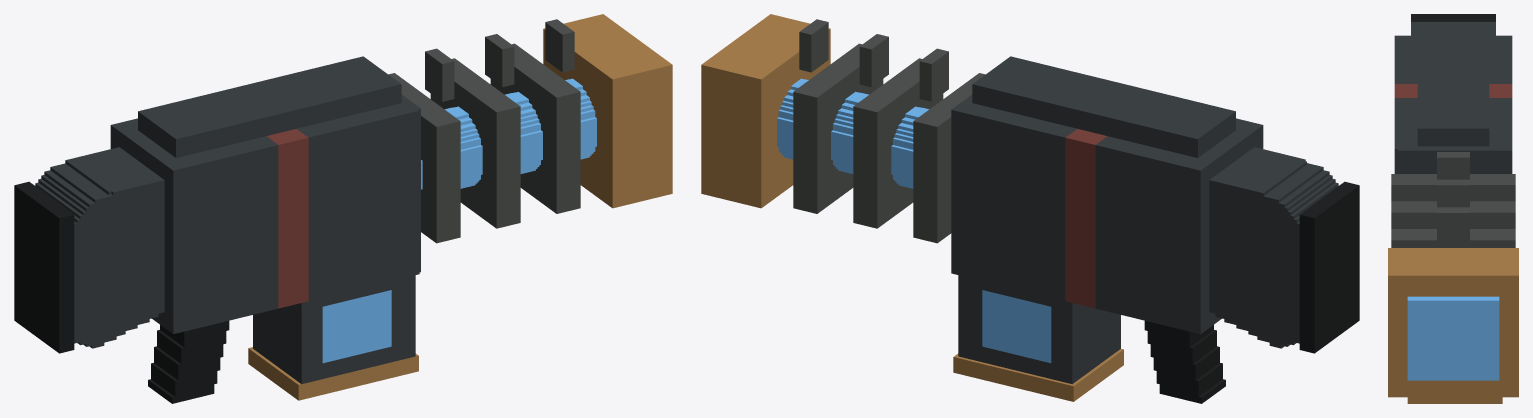
The model's file is bolt_plasma_caster.glb.
3 views of the same model, side by side, from view 1: azimuth 30°, elevation 25°; view 2: azimuth 150°, elevation 25°; view 3: azimuth 270°, elevation 25° (orthographic). The views are drawn at different scales.
Parts seen in each view (by area): view 1: bolt_plasma_caster:compound; view 2: bolt_plasma_caster:compound; view 3: bolt_plasma_caster:compound.
Part boxes in pixels (x1,y1,x2,y2): bolt_plasma_caster:compound: (14,14,672,403); bolt_plasma_caster:compound: (701,14,1359,403); bolt_plasma_caster:compound: (1388,14,1518,403).
Size of the model in its own units: 0.812 by 0.364 by 0.16.
